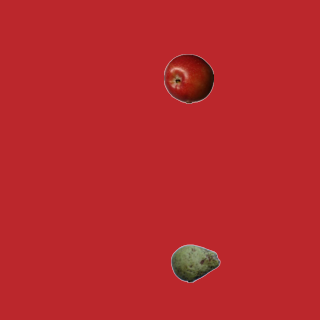Apple Braeburn: (163, 53, 213, 103)
Pear Stone: (170, 238, 220, 288)
